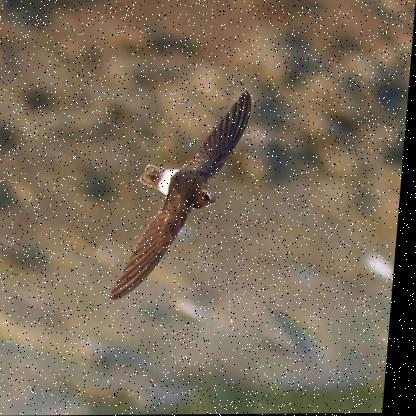Burung: (115, 90, 255, 301)
